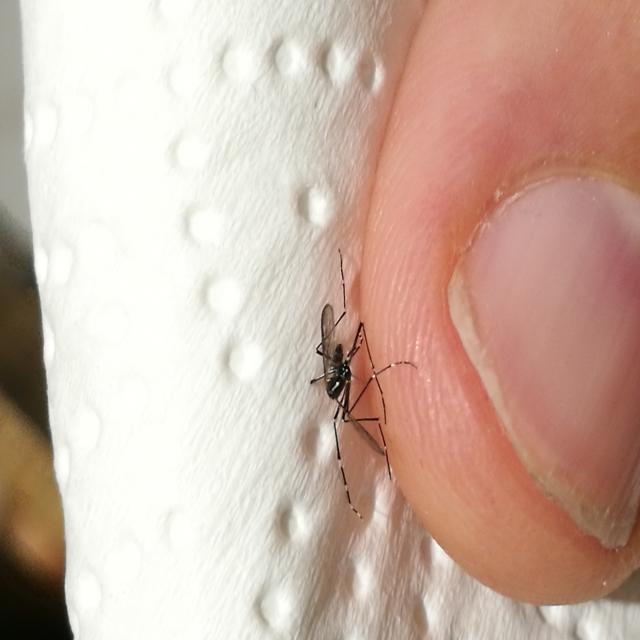albopictus: (297, 251, 423, 525)
